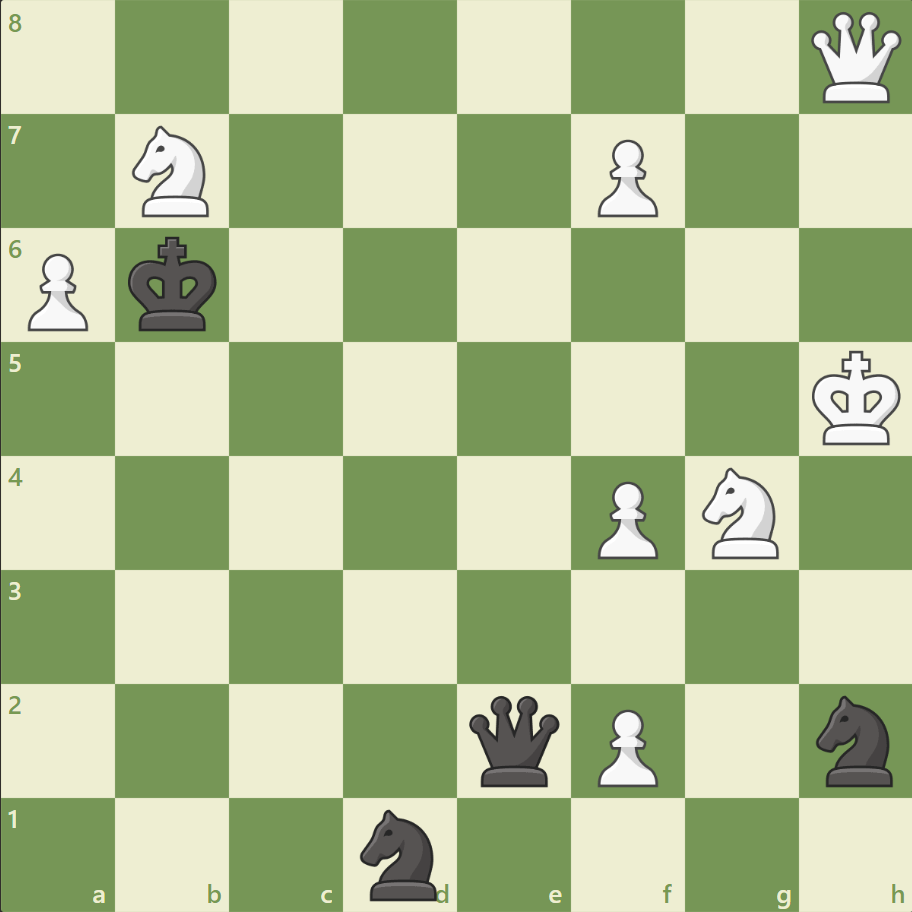K: (806, 344, 906, 452)
N: (124, 121, 222, 223), (692, 461, 789, 564)
P: (20, 246, 95, 337), (588, 132, 662, 223), (588, 473, 662, 564), (588, 700, 662, 791)
Q: (805, 9, 904, 108)
k: (124, 231, 224, 339)
n: (351, 802, 449, 904), (806, 688, 903, 791)
q: (464, 690, 563, 789)
